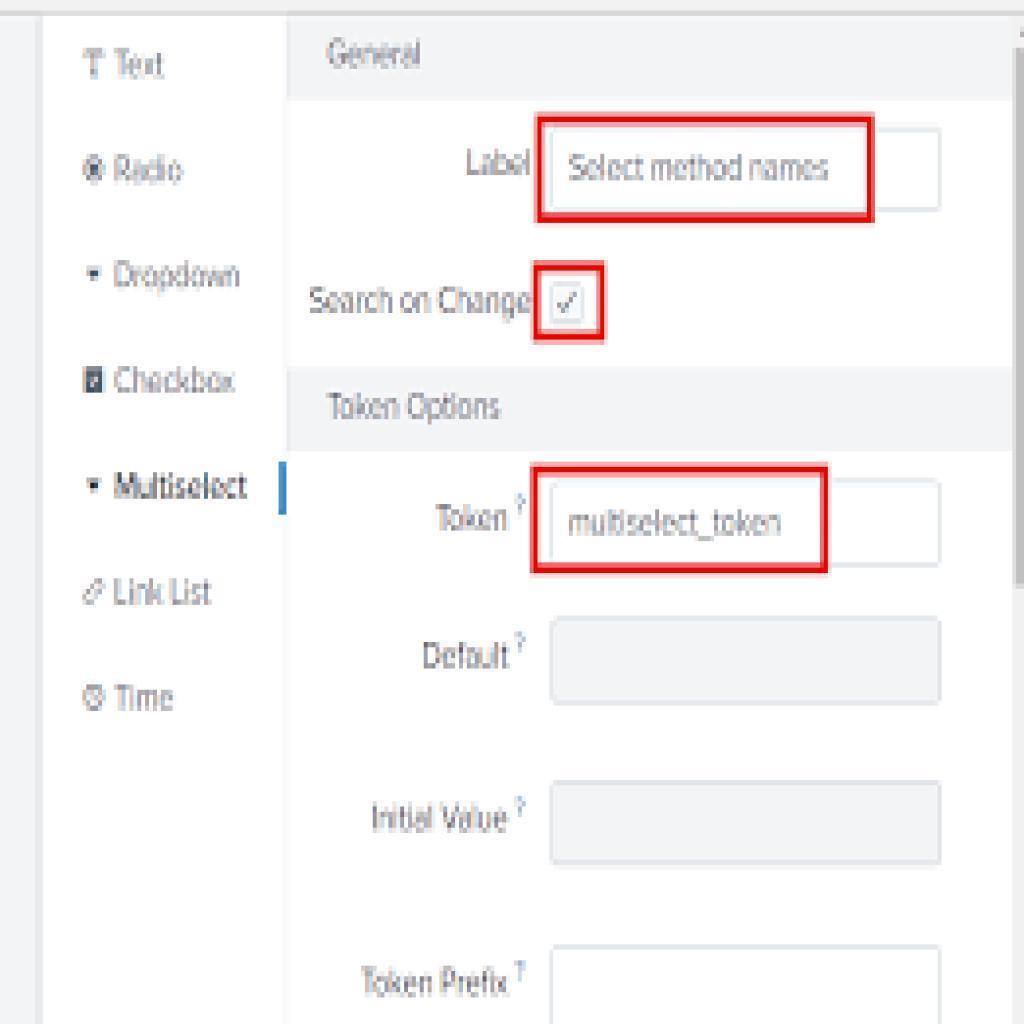checkbox: (548, 284, 586, 321), (83, 365, 104, 395)
icon: (81, 574, 109, 607), (80, 46, 107, 80), (82, 679, 106, 712)
input: (548, 617, 938, 702), (538, 117, 872, 216), (551, 780, 935, 864), (553, 946, 938, 1024), (533, 467, 826, 566)
radio: (83, 151, 104, 184)
